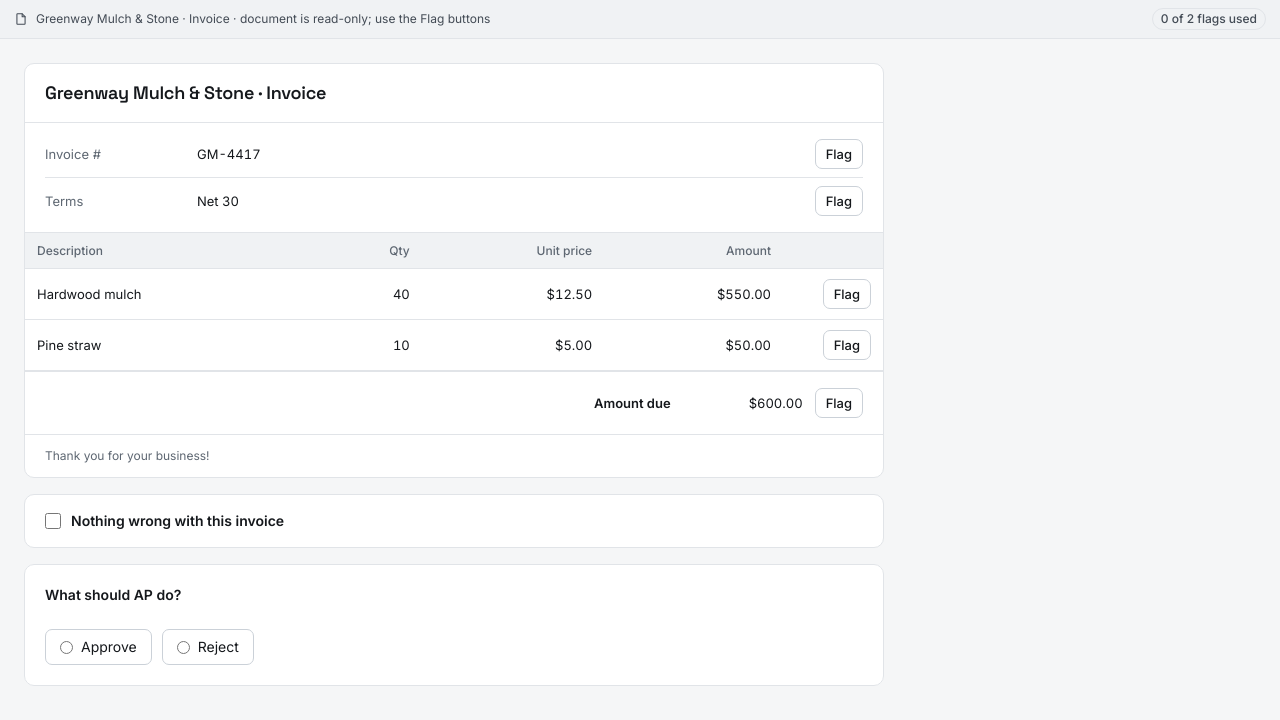
Test: DocumentReviewStep "nothing wrong here" › can't be confirmed while items are flagged, and says why
Click the button "Flag" in the row of "Pine straw" at (847,346), box [823,330,871,360]
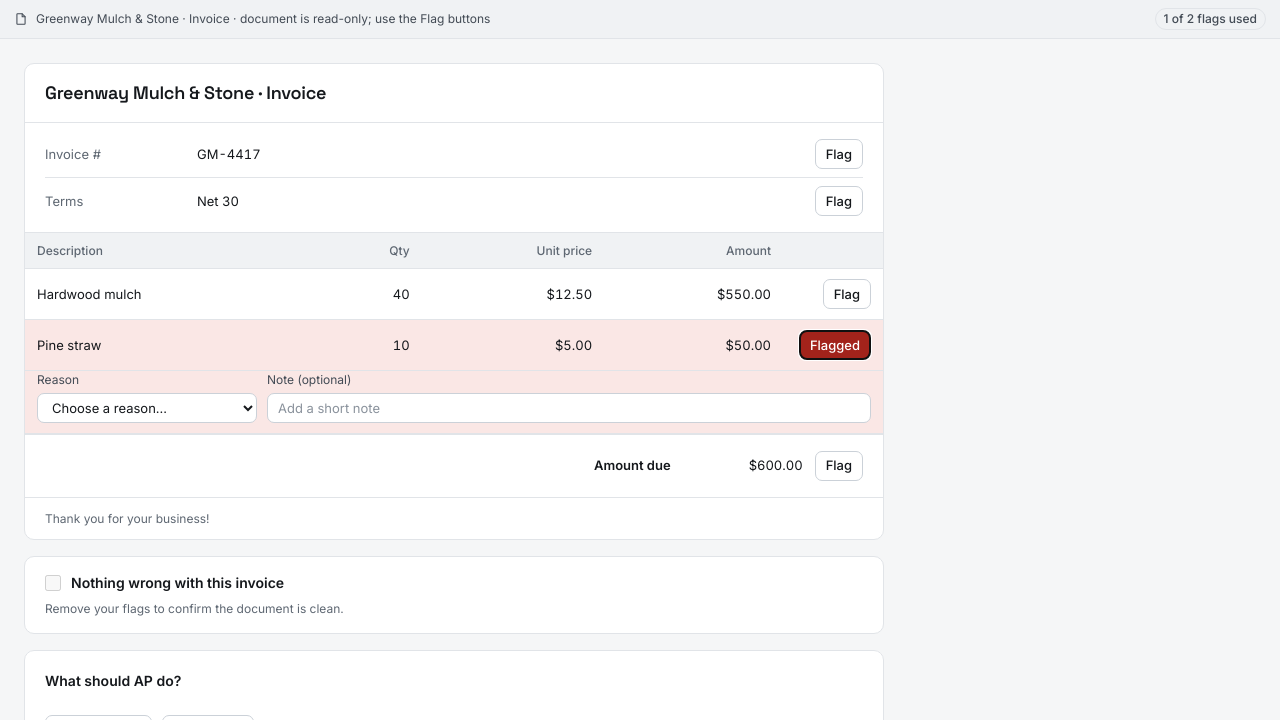
Expected: the checkbox labelled "Nothing wrong with this invoice" is disabled, [45,575,61,591]
Click the button "Flagged" at (835,346), box [799,330,871,360]
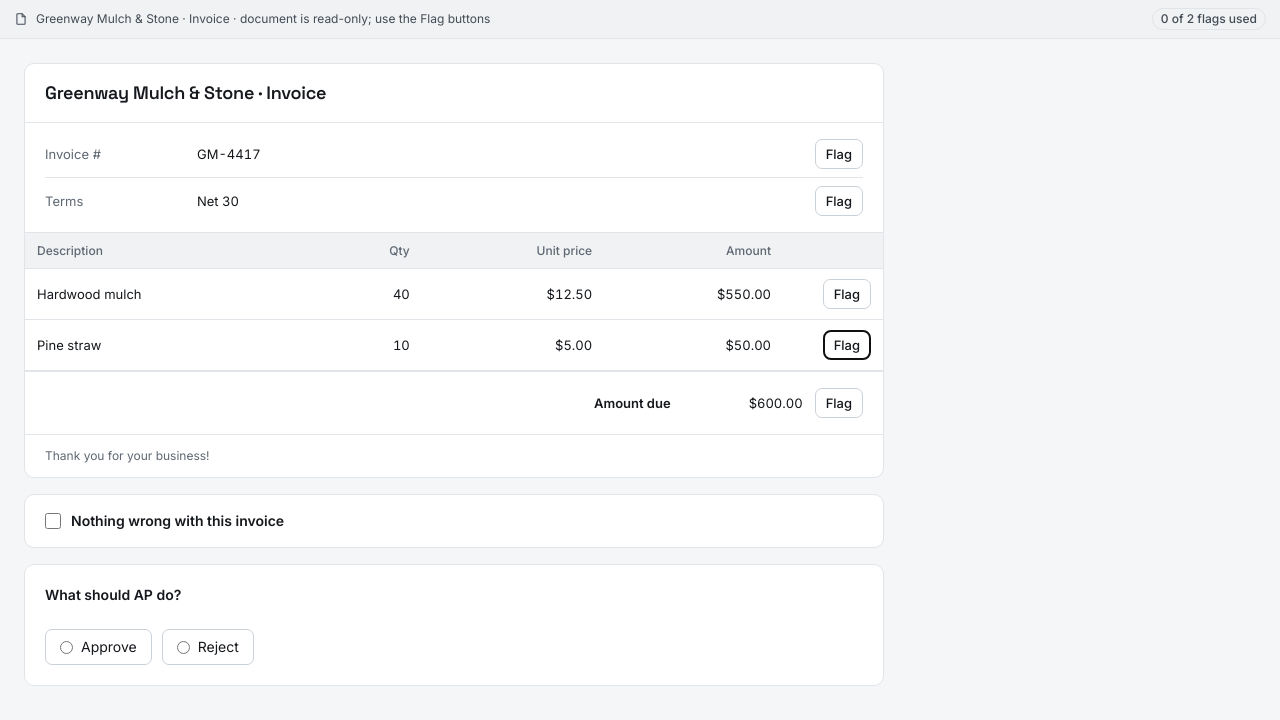
Expected: the checkbox labelled "Nothing wrong with this invoice" is enabled, [45,513,61,529]
